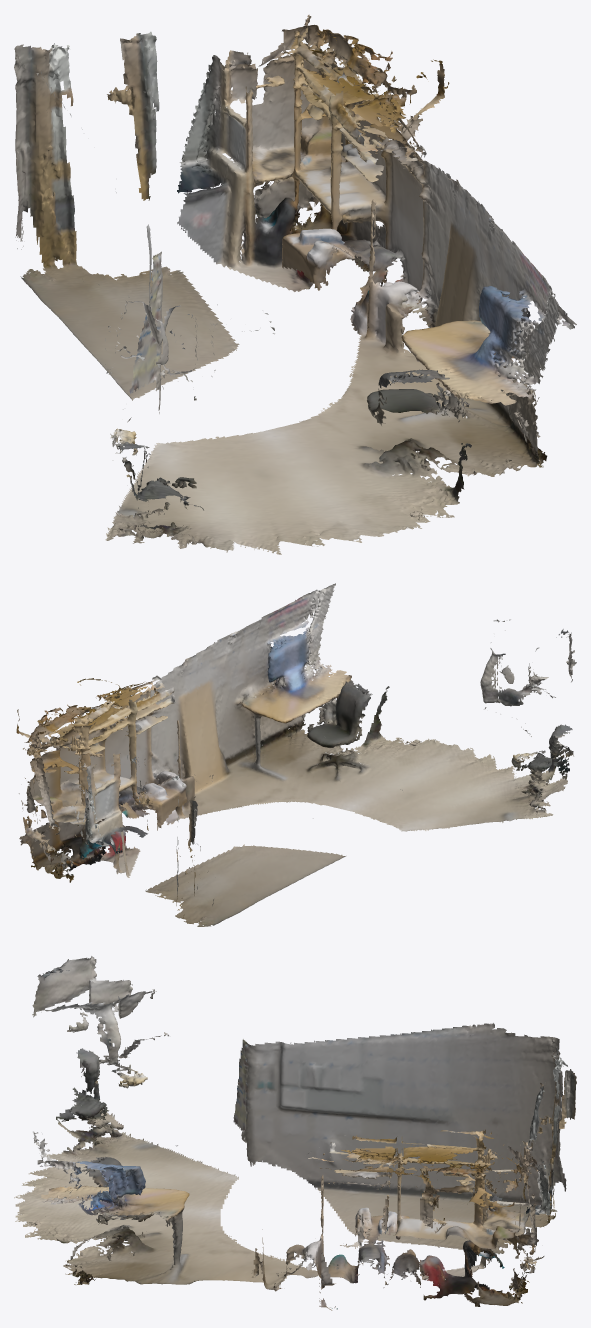
Rendered from scan-65cb051c0f18.glb.
The picture shows the model from 3 angles, top to bottom: view 1: azimuth 30°, elevation 25°; view 2: azimuth 150°, elevation 25°; view 3: azimuth 270°, elevation 25°; orthographic projection. The views are drawn at different scales.
Size of the model in its own units: 5.47 by 2.26 by 6.16.
